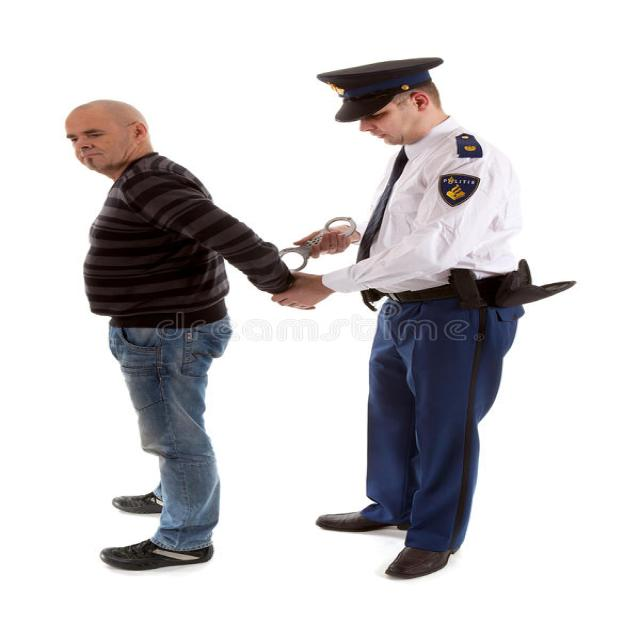police: (299, 33, 540, 600)
